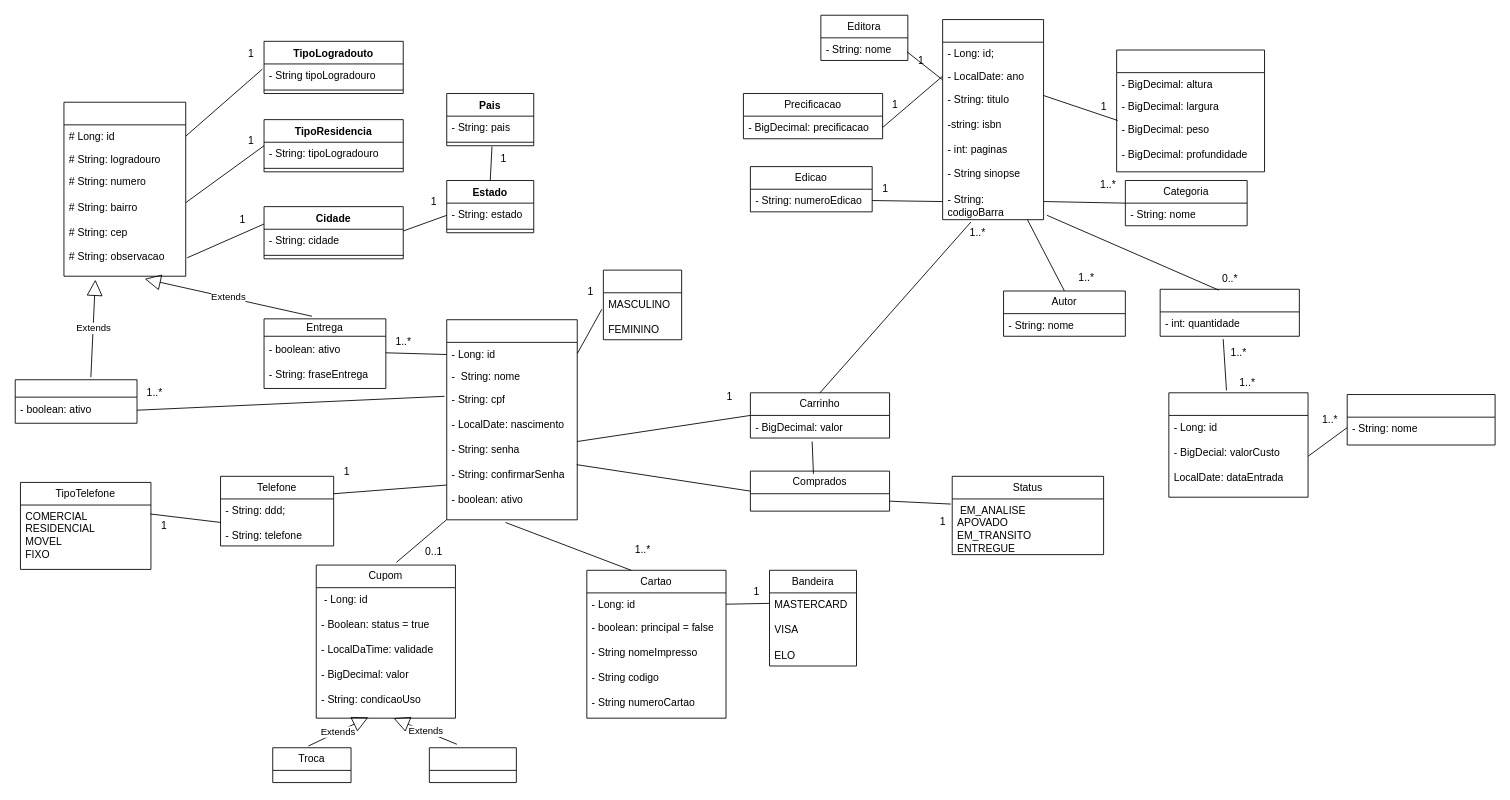
Some shapes in this 1510 by 800 pixel diagram are drawn without their labels. Each missing label, with the box of its shape:
Cliente: (446, 319, 577, 520)
Cobranca: (14, 379, 137, 423)
Dimensoes: (1116, 49, 1265, 172)
Endereco: (63, 101, 186, 276)
ESTOQUE: (1168, 392, 1308, 497)
Fornededor: (1346, 394, 1495, 445)
Genero: (602, 269, 682, 340)
Itens: (1159, 288, 1299, 336)
Livro: (942, 19, 1044, 220)
Promocional: (428, 747, 516, 783)
